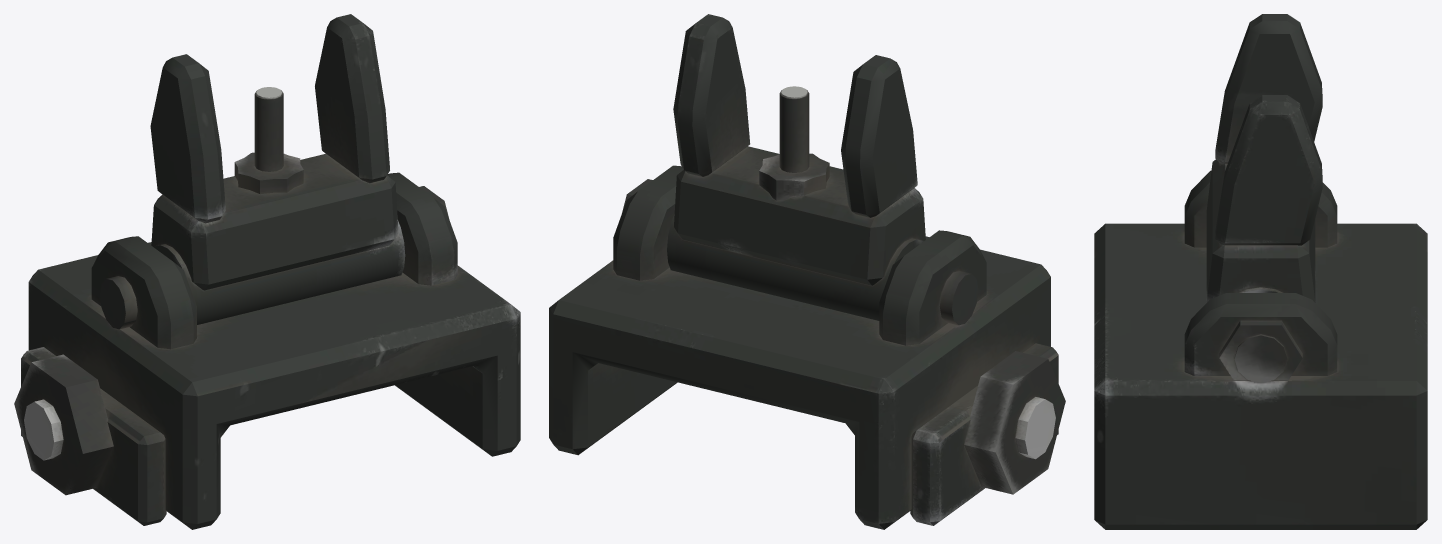
The model's file is massa_rebativel.glb.
3 views of the same model, side by side, from view 1: azimuth 30°, elevation 25°; view 2: azimuth 150°, elevation 25°; view 3: azimuth 270°, elevation 25° (orthographic).
Visible parts, largest first — view 1: massa_rebativel_base, massa_rebativel_lamina; view 2: massa_rebativel_base, massa_rebativel_lamina; view 3: massa_rebativel_base, massa_rebativel_lamina.
Part boxes in pixels (x1,y1,x2,y2): massa_rebativel_base: (14, 172, 520, 529); massa_rebativel_lamina: (150, 14, 405, 324); massa_rebativel_base: (549, 165, 1065, 529); massa_rebativel_lamina: (667, 14, 925, 320); massa_rebativel_base: (1094, 170, 1427, 529); massa_rebativel_lamina: (1206, 14, 1322, 302).
Bounding box in the file's own units: 0.034 × 0.0314 × 0.024.
Materials: 1 (1 with a texture image).
